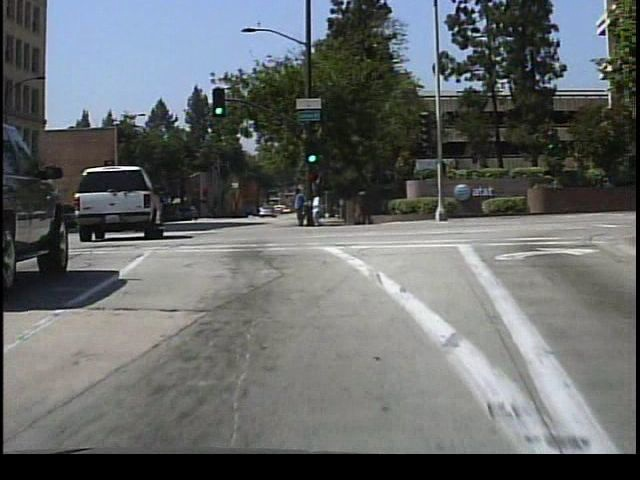person: (290, 181, 309, 230), (312, 190, 327, 228)
